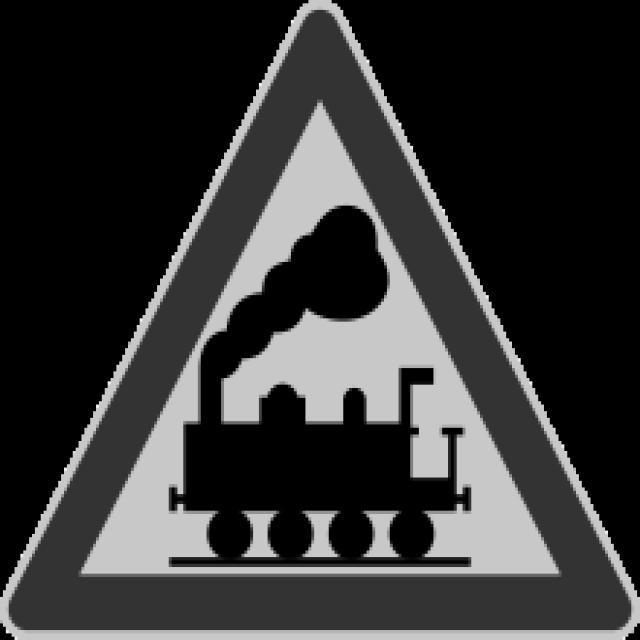unguarded level crossing: (43, 33, 605, 621)
